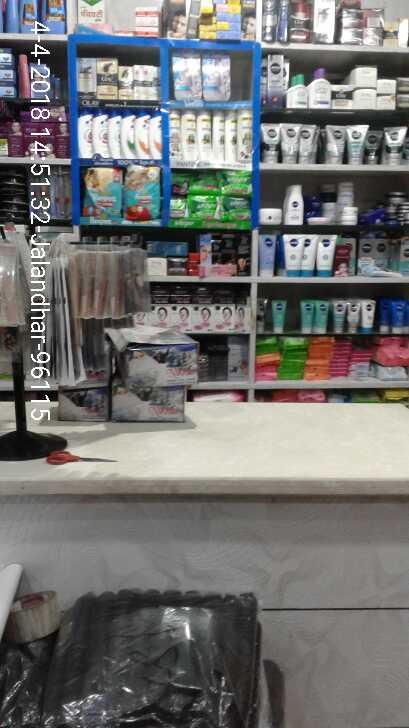venus: (204, 51, 234, 101), (174, 50, 203, 101)
